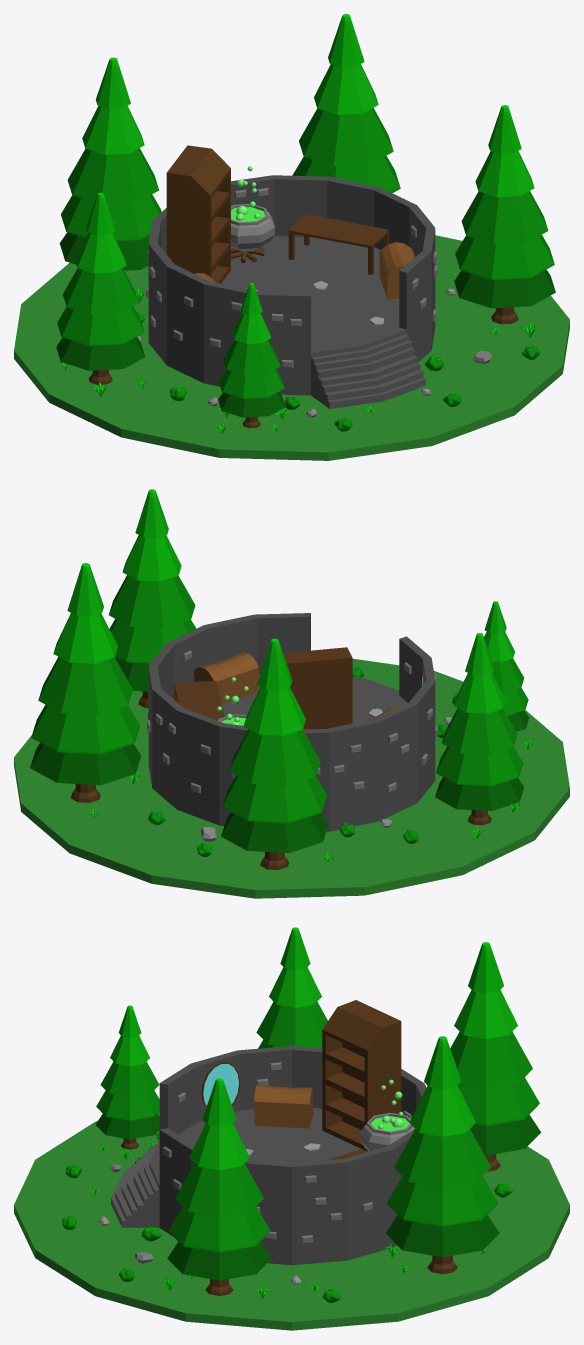
The model's file is Tempat Serenith.fbx.
3 views of the same model, one above another, from view 1: azimuth 30°, elevation 25°; view 2: azimuth 150°, elevation 25°; view 3: azimuth 270°, elevation 25° (orthographic).
Visible parts, largest first — view 1: Tempat Witch; view 2: Tempat Witch; view 3: Tempat Witch.
Boxes of the visible parts, x1=… form: Tempat Witch: x1=14, y1=14, x2=569, y2=460; Tempat Witch: x1=14, y1=489, x2=569, y2=898; Tempat Witch: x1=14, y1=927, x2=569, y2=1330.
Size of the model in its own units: 4211 by 1992 by 4211.
